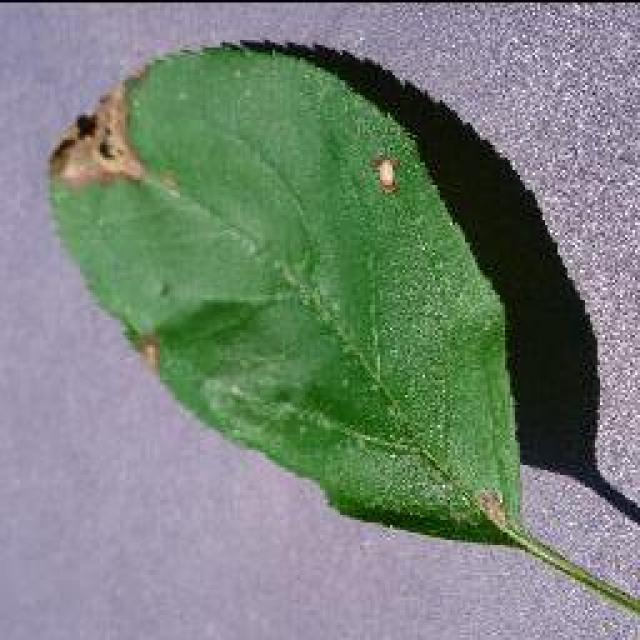apple black rot: (42, 32, 638, 638)
